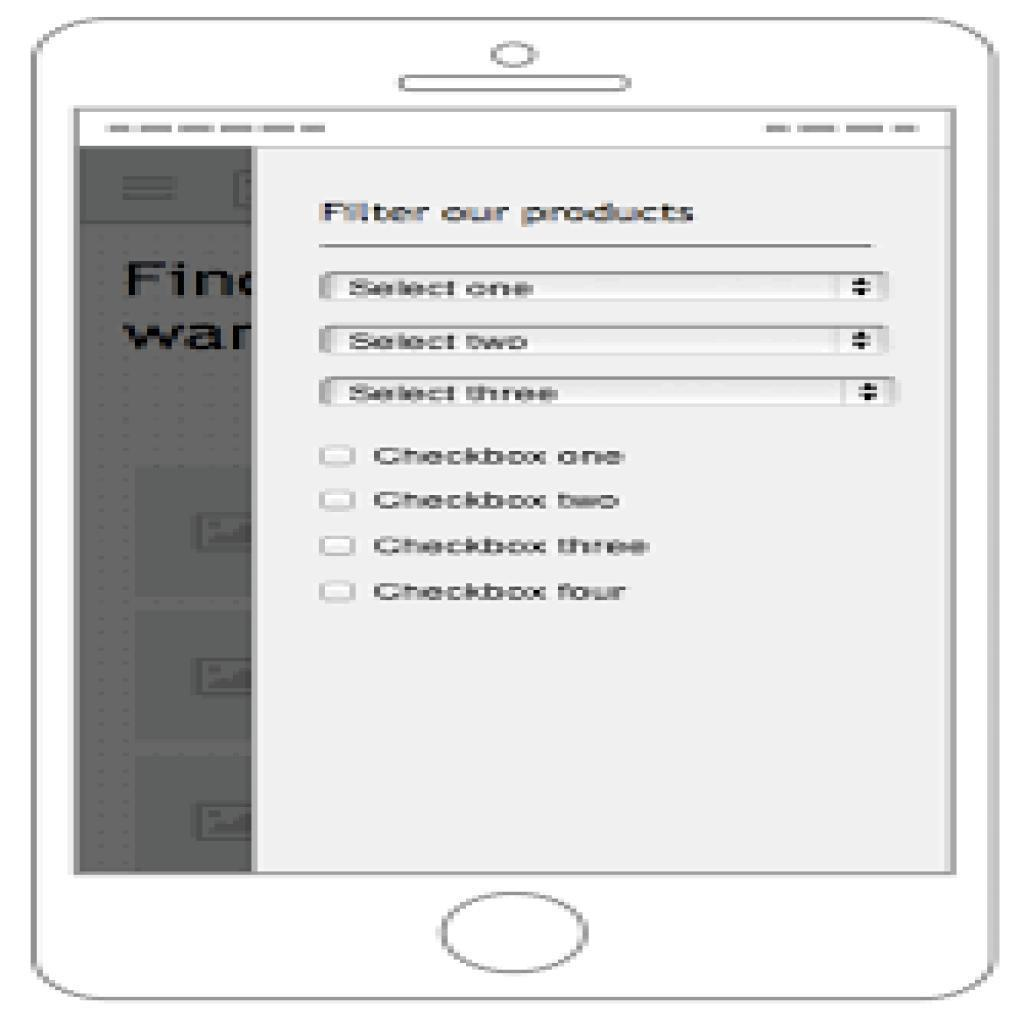checkbox: (321, 487, 356, 514), (321, 444, 358, 469), (320, 579, 358, 603), (320, 536, 356, 557)
dropdown: (323, 268, 888, 307), (319, 374, 896, 410), (321, 325, 893, 358)
